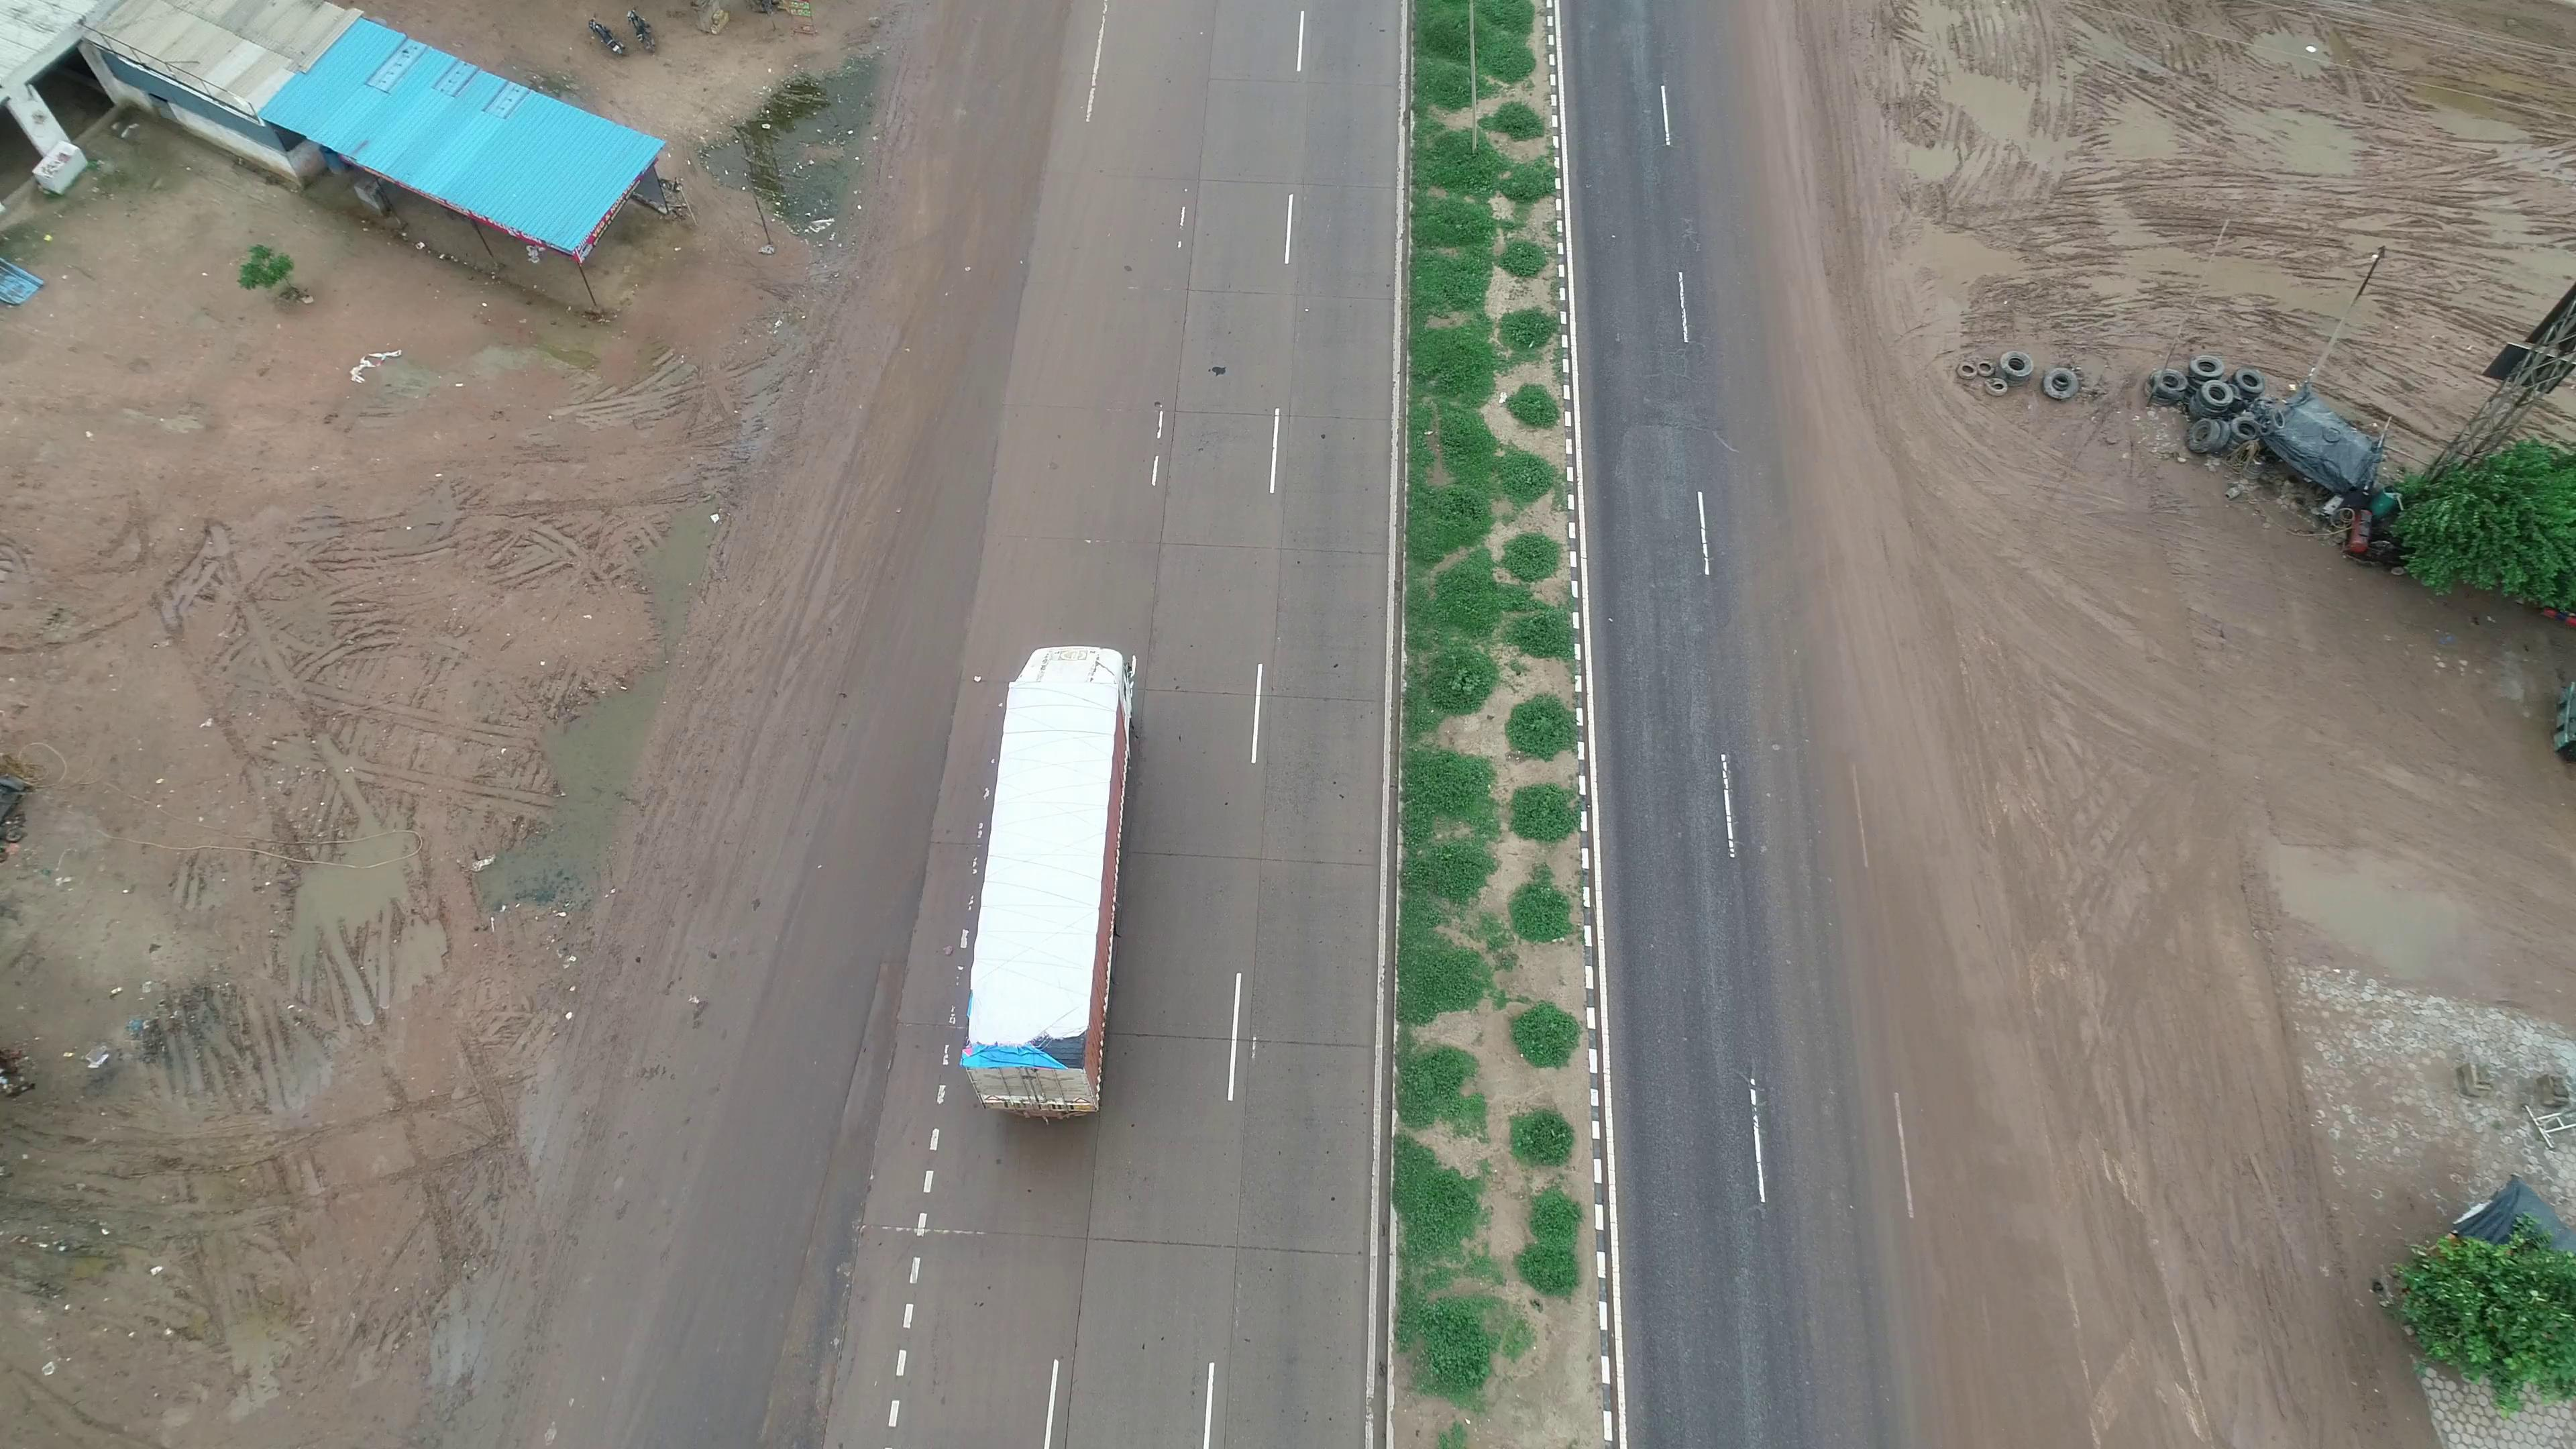Muddy_road: (1863, 704, 2380, 1424), (1773, 191, 2181, 697)
